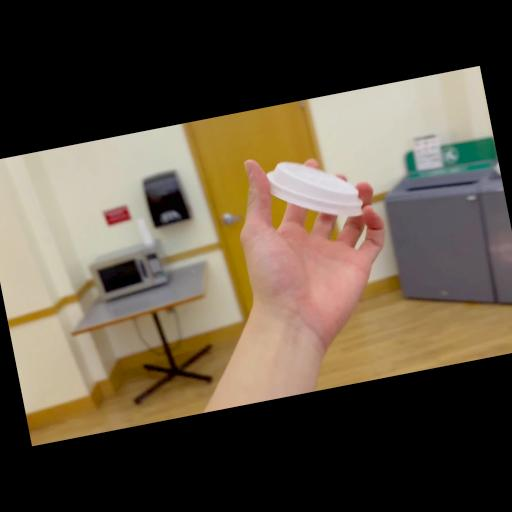lp_cup_lids: (263, 148, 368, 232)
